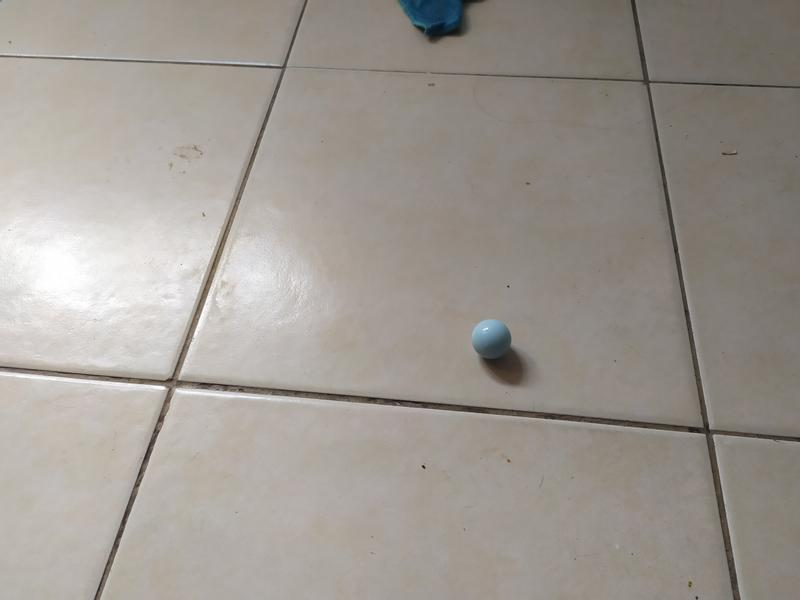Warning: (468, 317, 513, 361)
